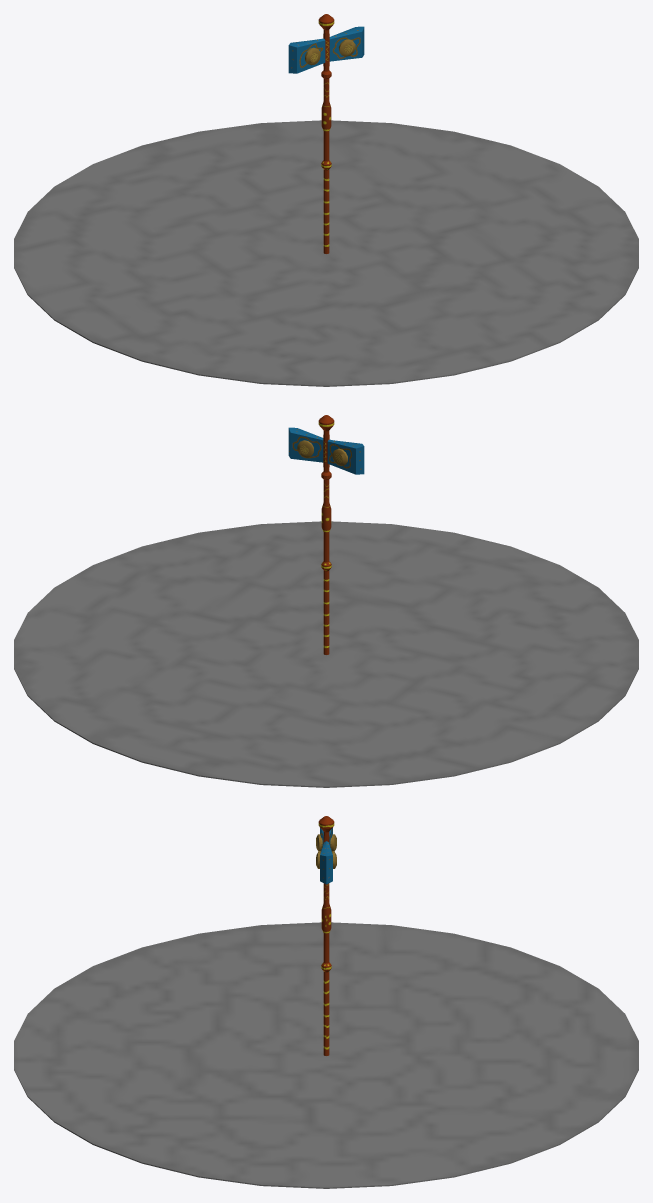
Rendered from HealingAbility.obj.
3 renders of one model, top to bottom at view 1: azimuth 30°, elevation 25°; view 2: azimuth 150°, elevation 25°; view 3: azimuth 270°, elevation 25°, orthographic.
Visible parts, largest first — view 1: HealingPole; view 2: HealingPole; view 3: HealingPole.
Boxes of the visible parts, box(x1,y1,x2,y2) form: HealingPole: box(14, 14, 638, 386); HealingPole: box(14, 415, 638, 787); HealingPole: box(14, 816, 638, 1188).
Size of the model in its own units: 55.98 by 23.5 by 55.67.
